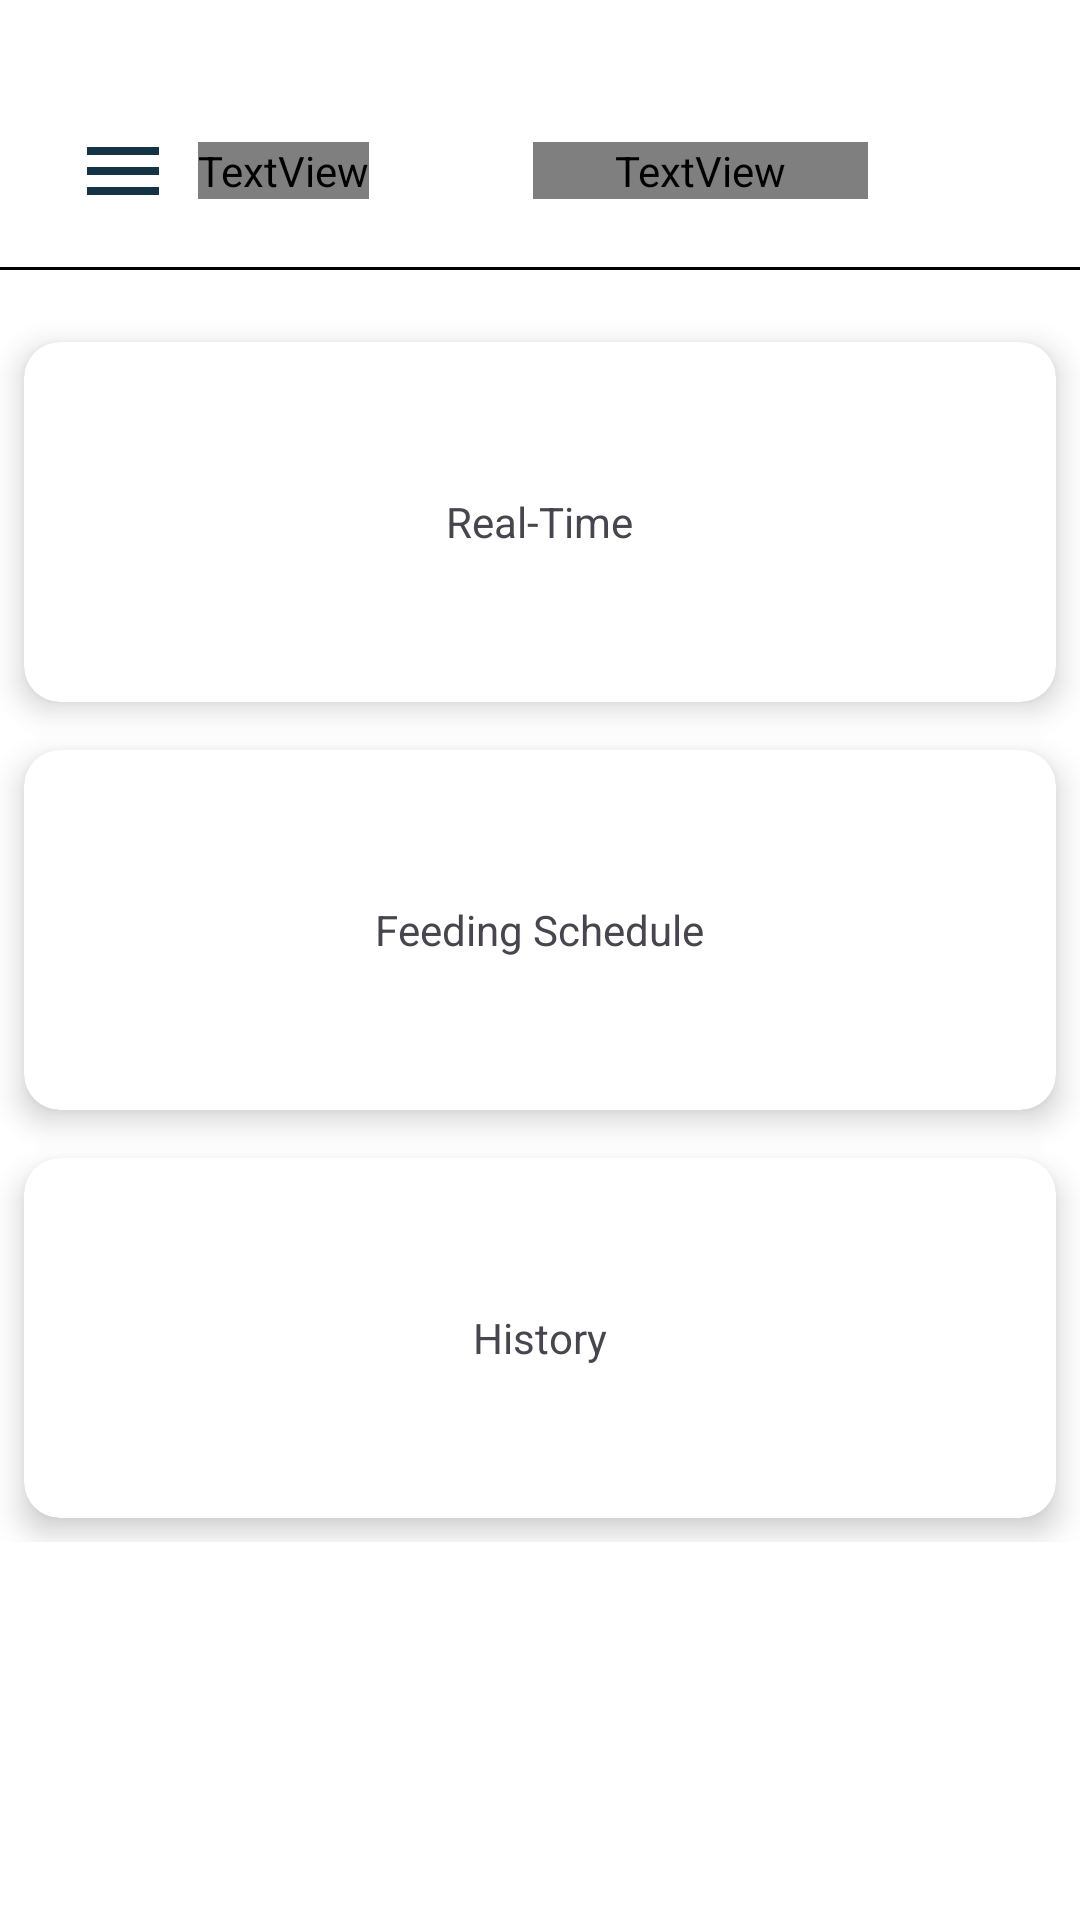

Where icons sit on this 1080 × 1920 app screen, as (x1, y1, x2, y2):
Hamburger Menu: (87, 147, 159, 195)
